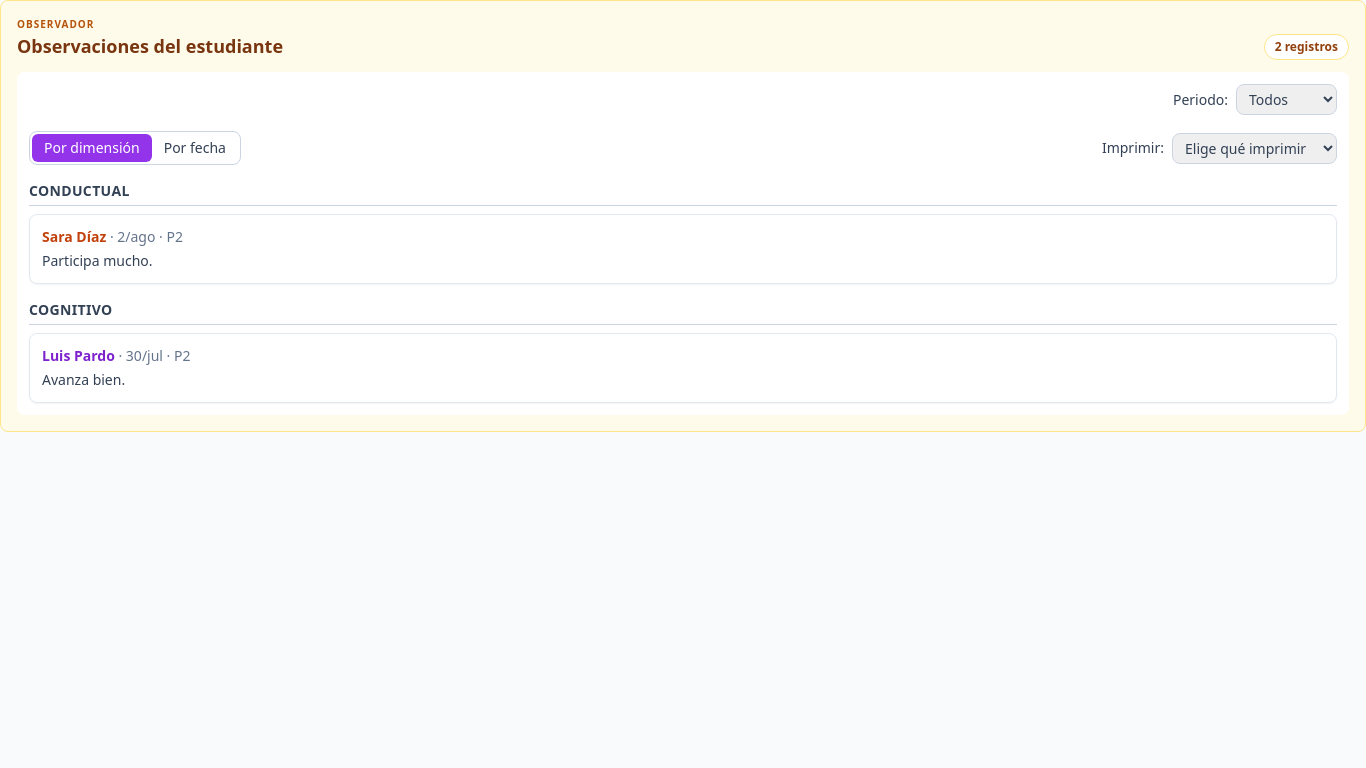
it: ObservadorEnFichaAdmin › si fallan las firmas, el impreso sale igual con las rayas vacías y lo avisa
Expected: the text "Participa mucho." is shown, [42,251,152,270]
Select "Todo el observador" in the dropdown labelled "Imprimir:" at [1254, 148], box [1172,132,1337,164]
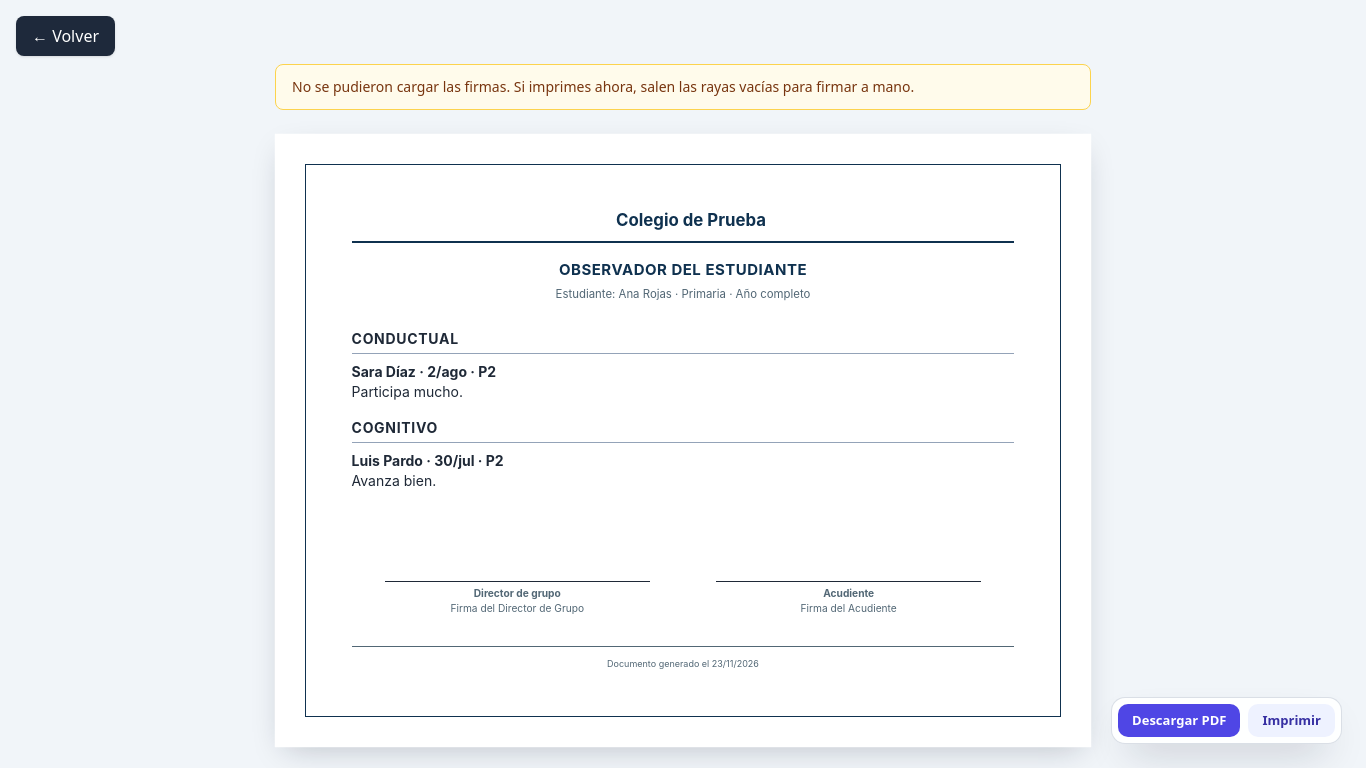
Expected: the text "Participa mucho." is shown, [352,383,463,400]
Now the message shows "No se pudieron cargar las firmas. Si imprimes ahora, salen las rayas vacías para firmar a mano.", box [292,77,914,96]
Now the text "Director de grupo" is shown, box [474,587,561,599]
